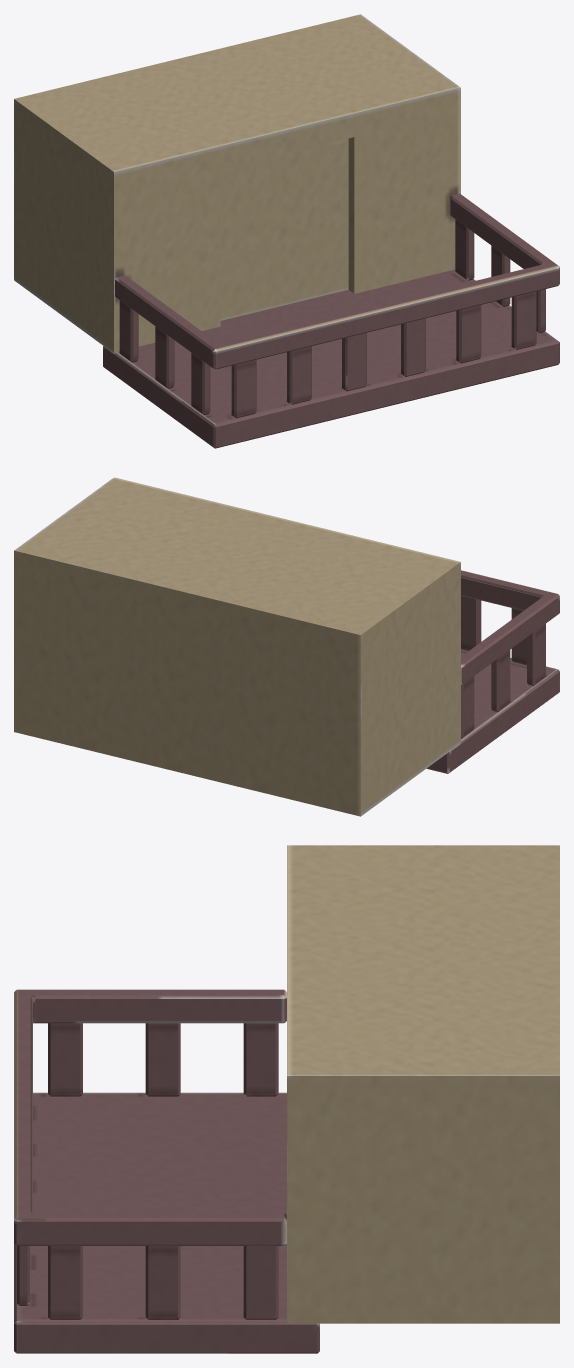
Rendered from balcony_LOD0.fbx.
3 renders of one model, top to bottom at view 1: azimuth 30°, elevation 25°; view 2: azimuth 150°, elevation 25°; view 3: azimuth 270°, elevation 25°, orthographic. The views are drawn at different scales.
Parts seen in each view (by area): view 1: balcony_LOD0; view 2: balcony_LOD0; view 3: balcony_LOD0.
Part boxes in pixels (bbox=[...]): balcony_LOD0: bbox=[14, 14, 559, 448]; balcony_LOD0: bbox=[14, 477, 559, 816]; balcony_LOD0: bbox=[14, 845, 559, 1353].
Bounding box in the file's own units: 400 × 225 × 400.
